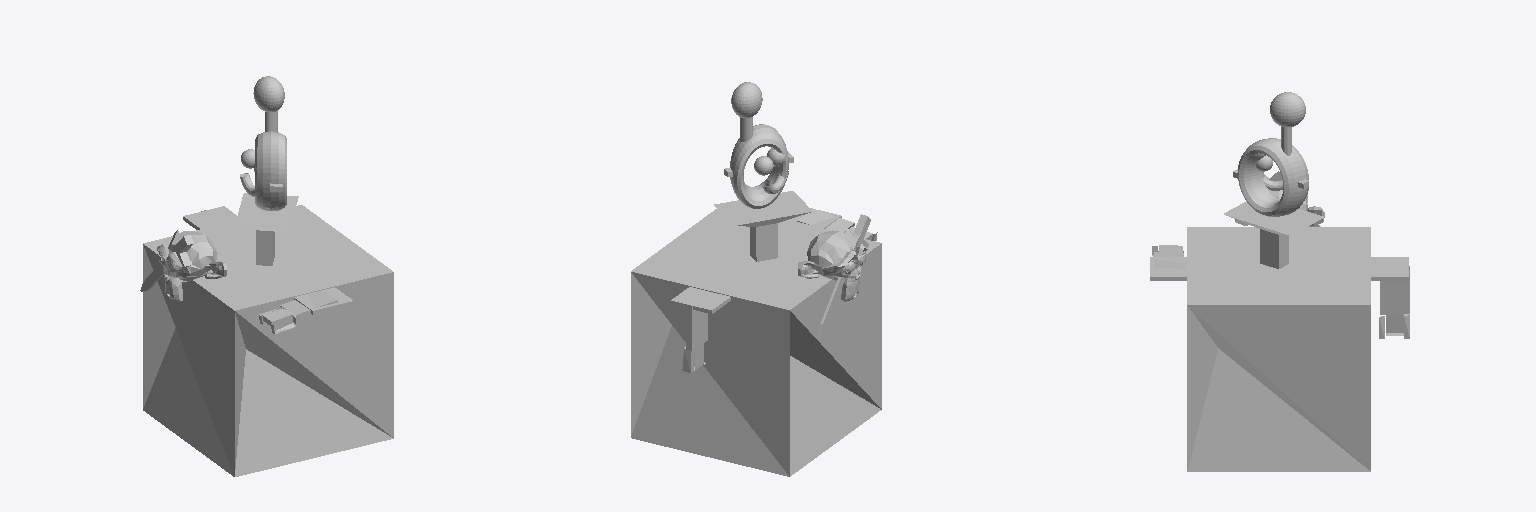
File: Robot_000026.obj
The picture shows the model from 3 angles: view 1: azimuth 30°, elevation 25°; view 2: azimuth 150°, elevation 25°; view 3: azimuth 270°, elevation 25°; orthographic projection.
Parts seen in each view (by area): view 1: Cube.001_Cube, Cube_Cube.001, Suzanne, Left_Hand.001_Cube.005, Cube.002_Cube.004, Sphere, Cube.003_Cube.006; view 2: Cube.001_Cube, Cube_Cube.001, Suzanne, Left_Hand_Cube.002, Cube.002_Cube.004, Cube.003_Cube.006, Sphere, Left_Hand.001_Cube.005; view 3: Cube.001_Cube, Cube_Cube.001, Left_Hand_Cube.002, Cube.002_Cube.004, Sphere, Left_Hand.001_Cube.005.
Boxes of the visible parts, <box> form: Cube.001_Cube: <box>143,205,393,476</box>; Cube_Cube.001: <box>234,131,298,265</box>; Suzanne: <box>157,231,226,301</box>; Left_Hand.001_Cube.005: <box>259,290,338,333</box>; Cube.002_Cube.004: <box>183,206,353,314</box>; Sphere: <box>253,76,284,112</box>; Cube.003_Cube.006: <box>140,230,193,291</box>; Cube.001_Cube: <box>631,209,881,476</box>; Cube_Cube.001: <box>714,124,812,261</box>; Suzanne: <box>798,230,867,301</box>; Left_Hand_Cube.002: <box>682,305,707,372</box>; Cube.002_Cube.004: <box>671,208,841,313</box>; Cube.003_Cube.006: <box>818,214,870,337</box>; Sphere: <box>731,82,762,117</box>; Left_Hand.001_Cube.005: <box>797,208,877,240</box>; Cube.001_Cube: <box>1187,227,1370,471</box>; Cube_Cube.001: <box>1224,138,1323,268</box>; Left_Hand_Cube.002: <box>1379,266,1409,338</box>; Cube.002_Cube.004: <box>1150,257,1408,280</box>; Sphere: <box>1270,92,1305,126</box>; Left_Hand.001_Cube.005: <box>1152,245,1184,268</box>.
Bounding box in the file's own units: 2.3 × 4.11 × 2.83.